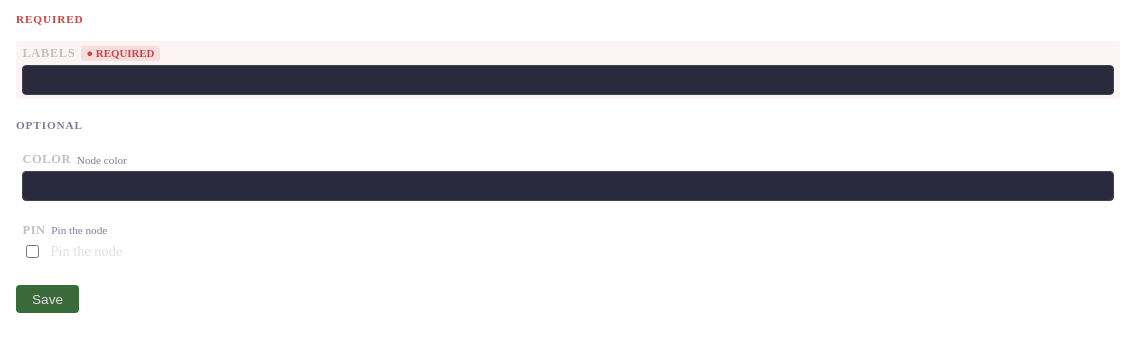
Test case: DynamicForm › shows validation error when required field is empty on submit
Submit without filling required field (button text is "Save")
Click the button "Save": [48, 299] box top-left (16, 285), bottom-right (79, 313)
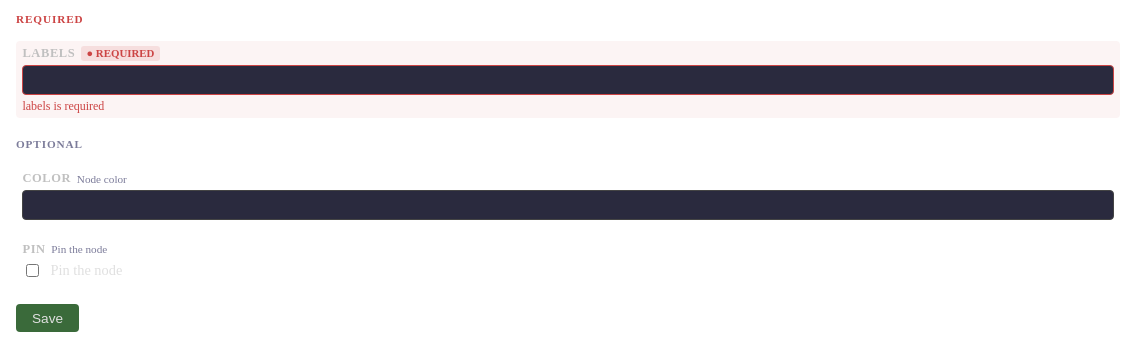
Expected: the text "labels is required" is shown, top-left (22, 99), bottom-right (104, 113)
